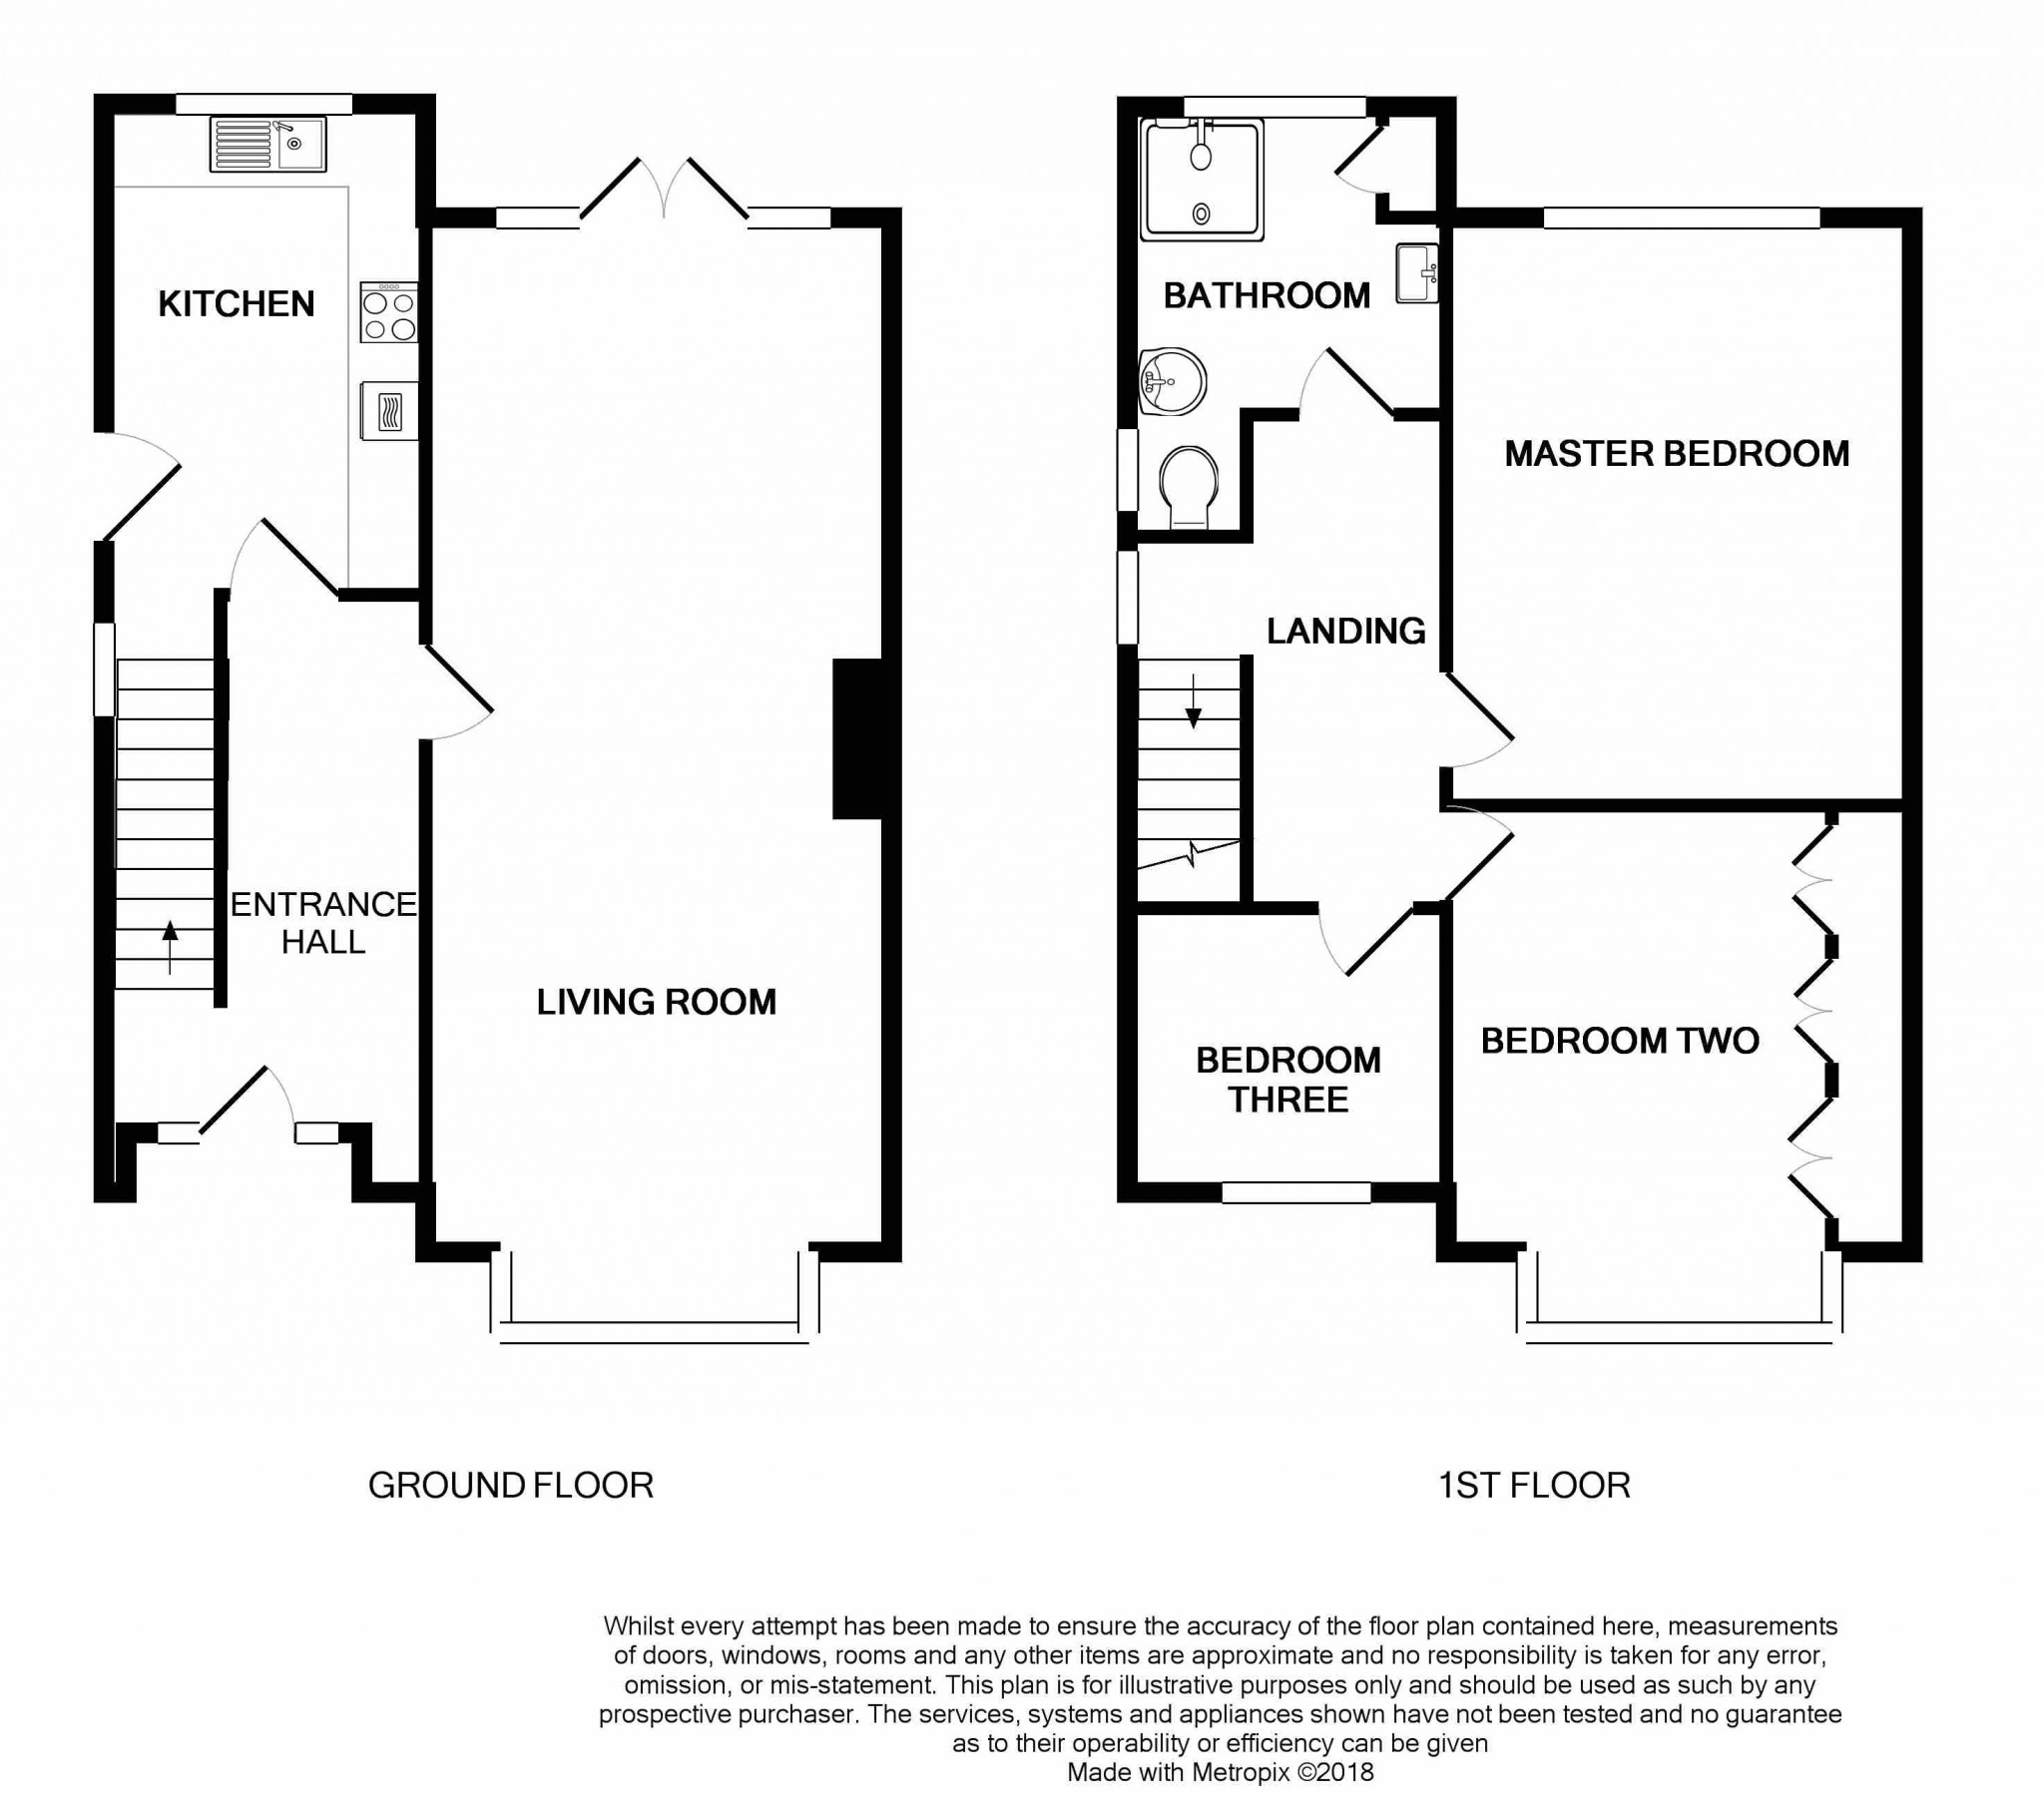wall: (1439, 912, 1453, 1250), (1441, 116, 1450, 643), (895, 228, 899, 1267), (421, 740, 428, 1178), (424, 97, 429, 636), (1126, 641, 1131, 1178), (1439, 801, 1921, 806), (97, 103, 103, 436), (103, 716, 106, 1197), (1375, 214, 1542, 222), (1128, 97, 1131, 414), (826, 212, 902, 224), (1241, 666, 1244, 918), (1131, 535, 1262, 540), (1250, 415, 1255, 540), (103, 537, 108, 615), (1123, 911, 1314, 912), (820, 1257, 879, 1262), (341, 598, 421, 601)
